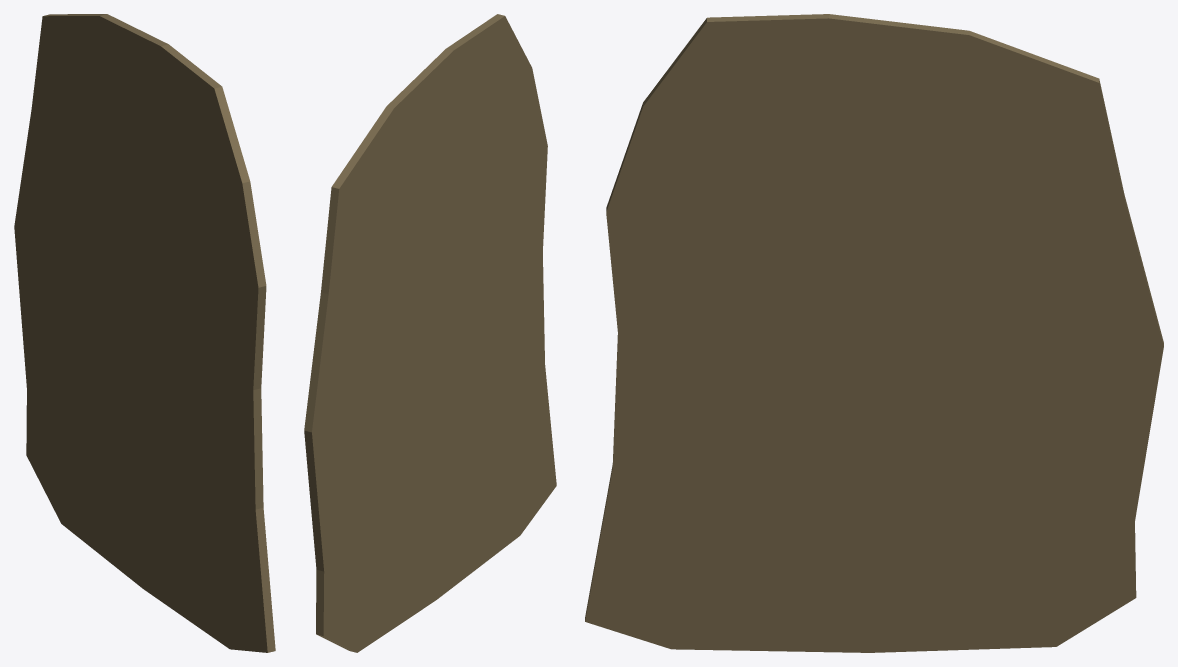
File: Picasso.fbx
3 views of the same model, side by side, from view 1: azimuth 30°, elevation 25°; view 2: azimuth 150°, elevation 25°; view 3: azimuth 270°, elevation 25° (orthographic). The views are drawn at different scales.
Visible parts, largest first — view 1: Plane; view 2: Plane; view 3: Plane.
Part boxes in pixels (box(x1,y1,x2,y2)): Plane: box(14, 14, 275, 652); Plane: box(304, 14, 556, 652); Plane: box(585, 14, 1163, 652).
Size of the model in its own units: 1.48 by 98.1 by 81.1.
